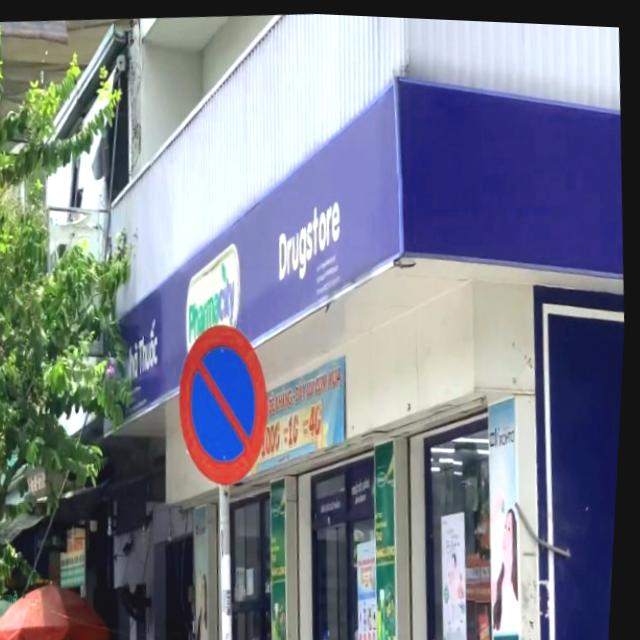Cam do xe: (175, 311, 283, 489)
